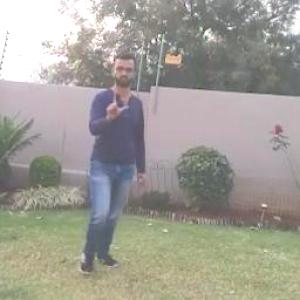land_hand: (99, 86, 132, 126)
